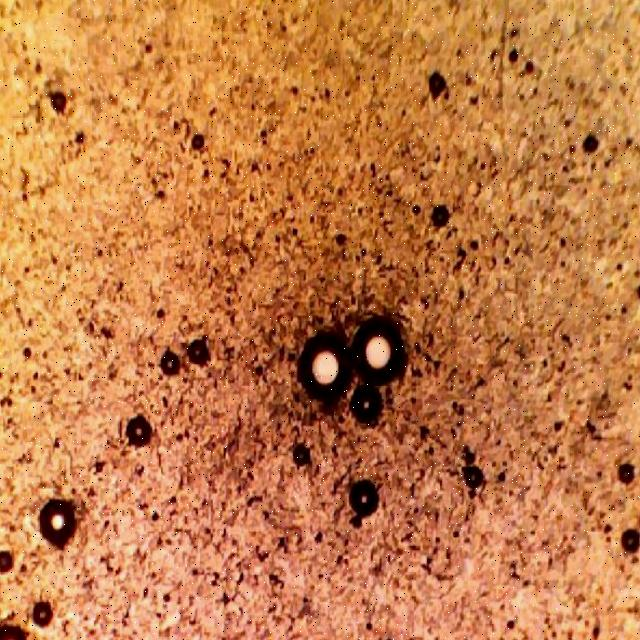microbeads: (35, 496, 81, 546), (344, 385, 388, 431), (344, 479, 384, 519), (124, 413, 154, 449), (290, 444, 316, 474), (186, 338, 210, 368), (158, 352, 180, 381)
